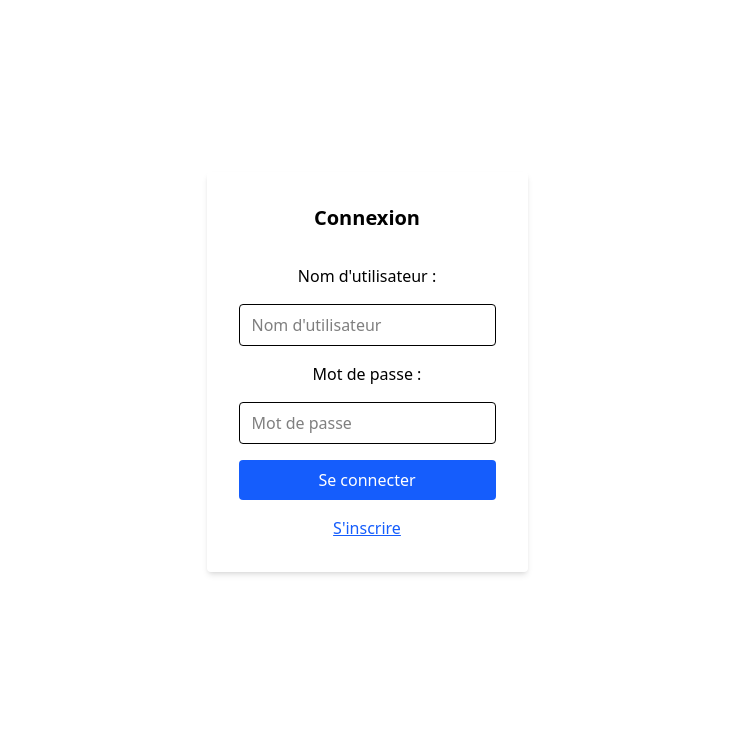
Test: App › shows signup form when clicking "S'inscrire"
Click the button "S'inscrire": click(367, 528) [238,516,496,540]
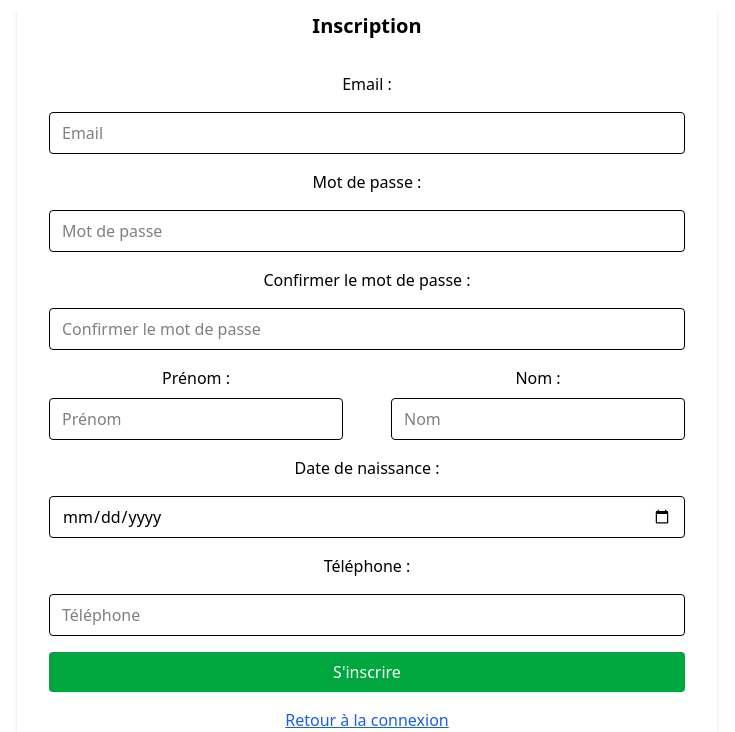
Expected: the heading "Inscription" is shown, [312,12,422,39]
